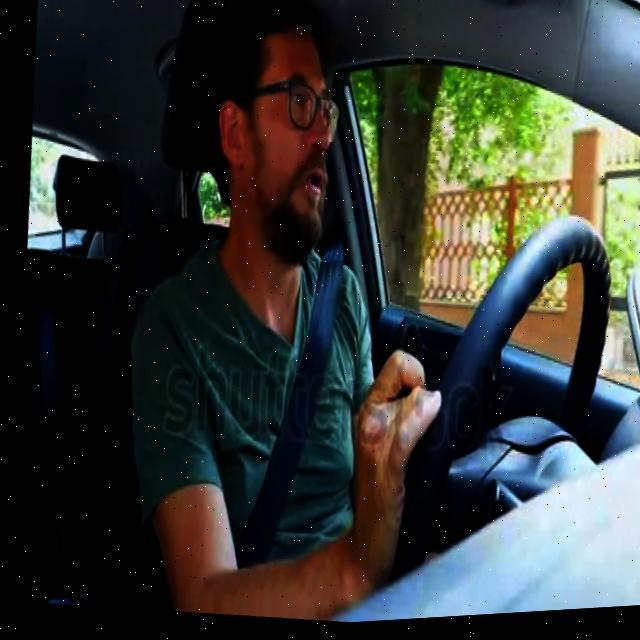PhoneCall: (376, 315, 504, 460)
